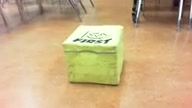cube: (62, 25, 123, 86)
